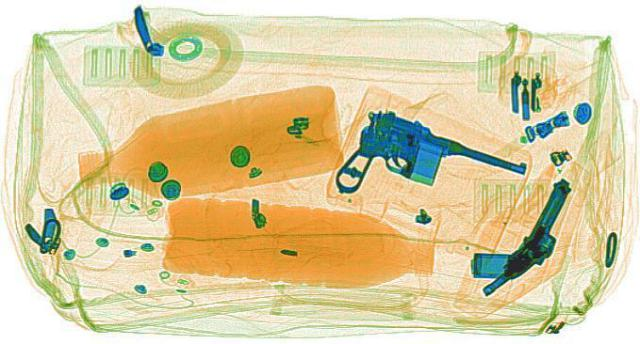Gun: (276, 103, 536, 227), (478, 175, 592, 298)
